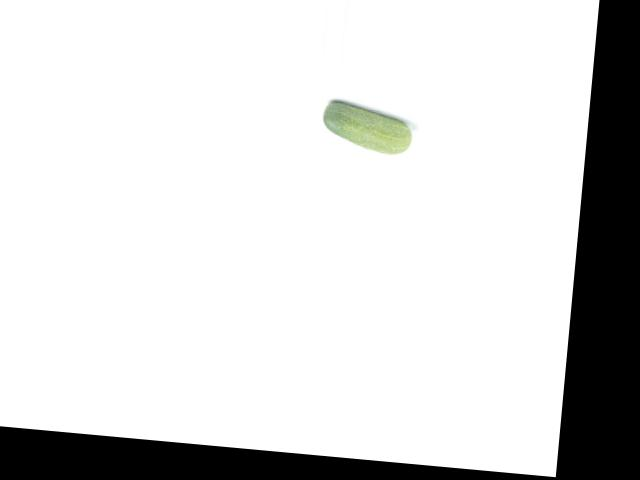cucumber: (320, 100, 414, 155)
